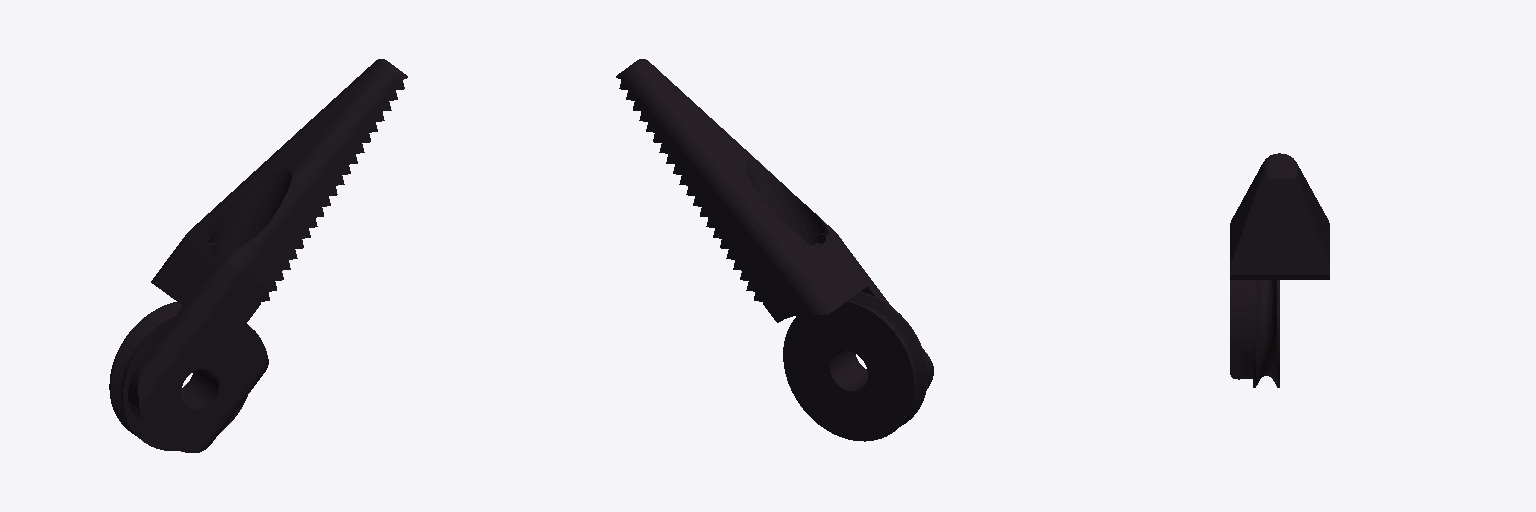
The model's file is grasper2_L.OBJ.
The picture shows the model from 3 angles: view 1: azimuth 30°, elevation 25°; view 2: azimuth 150°, elevation 25°; view 3: azimuth 270°, elevation 25°; orthographic projection.
Parts seen in each view (by area): view 1: /ambf/env/raven_2/grasper2_L; view 2: /ambf/env/raven_2/grasper2_L; view 3: /ambf/env/raven_2/grasper2_L.
Part boxes in pixels (x1,y1,x2,y2): /ambf/env/raven_2/grasper2_L: (109, 59, 407, 452); /ambf/env/raven_2/grasper2_L: (616, 59, 933, 441); /ambf/env/raven_2/grasper2_L: (1230, 153, 1329, 387).
Bounding box in the file's own units: 0.0189 × 0.0202 × 0.0056.